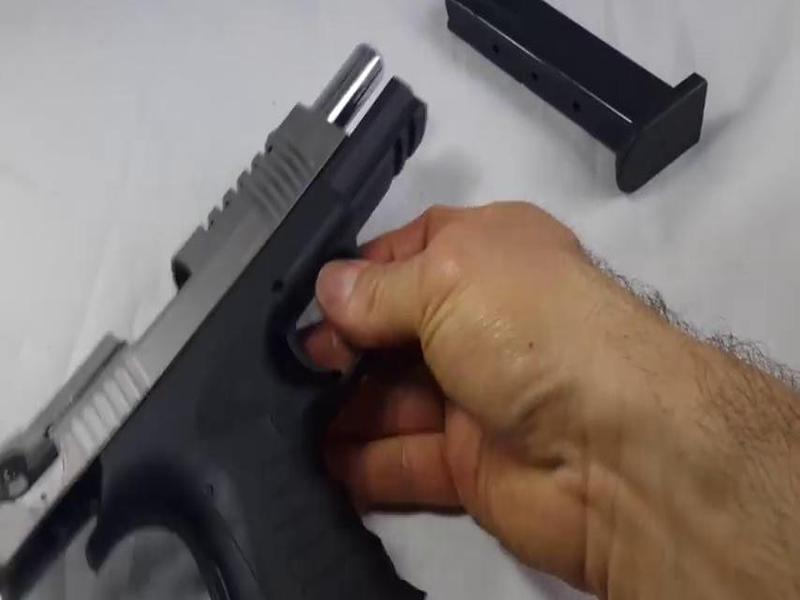Pistola: (30, 26, 423, 600)
